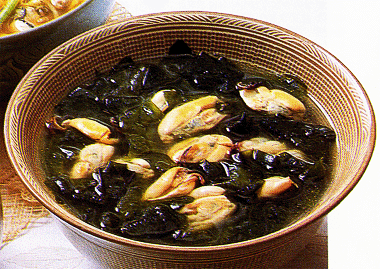miyeoggug: (22, 20, 361, 243)
